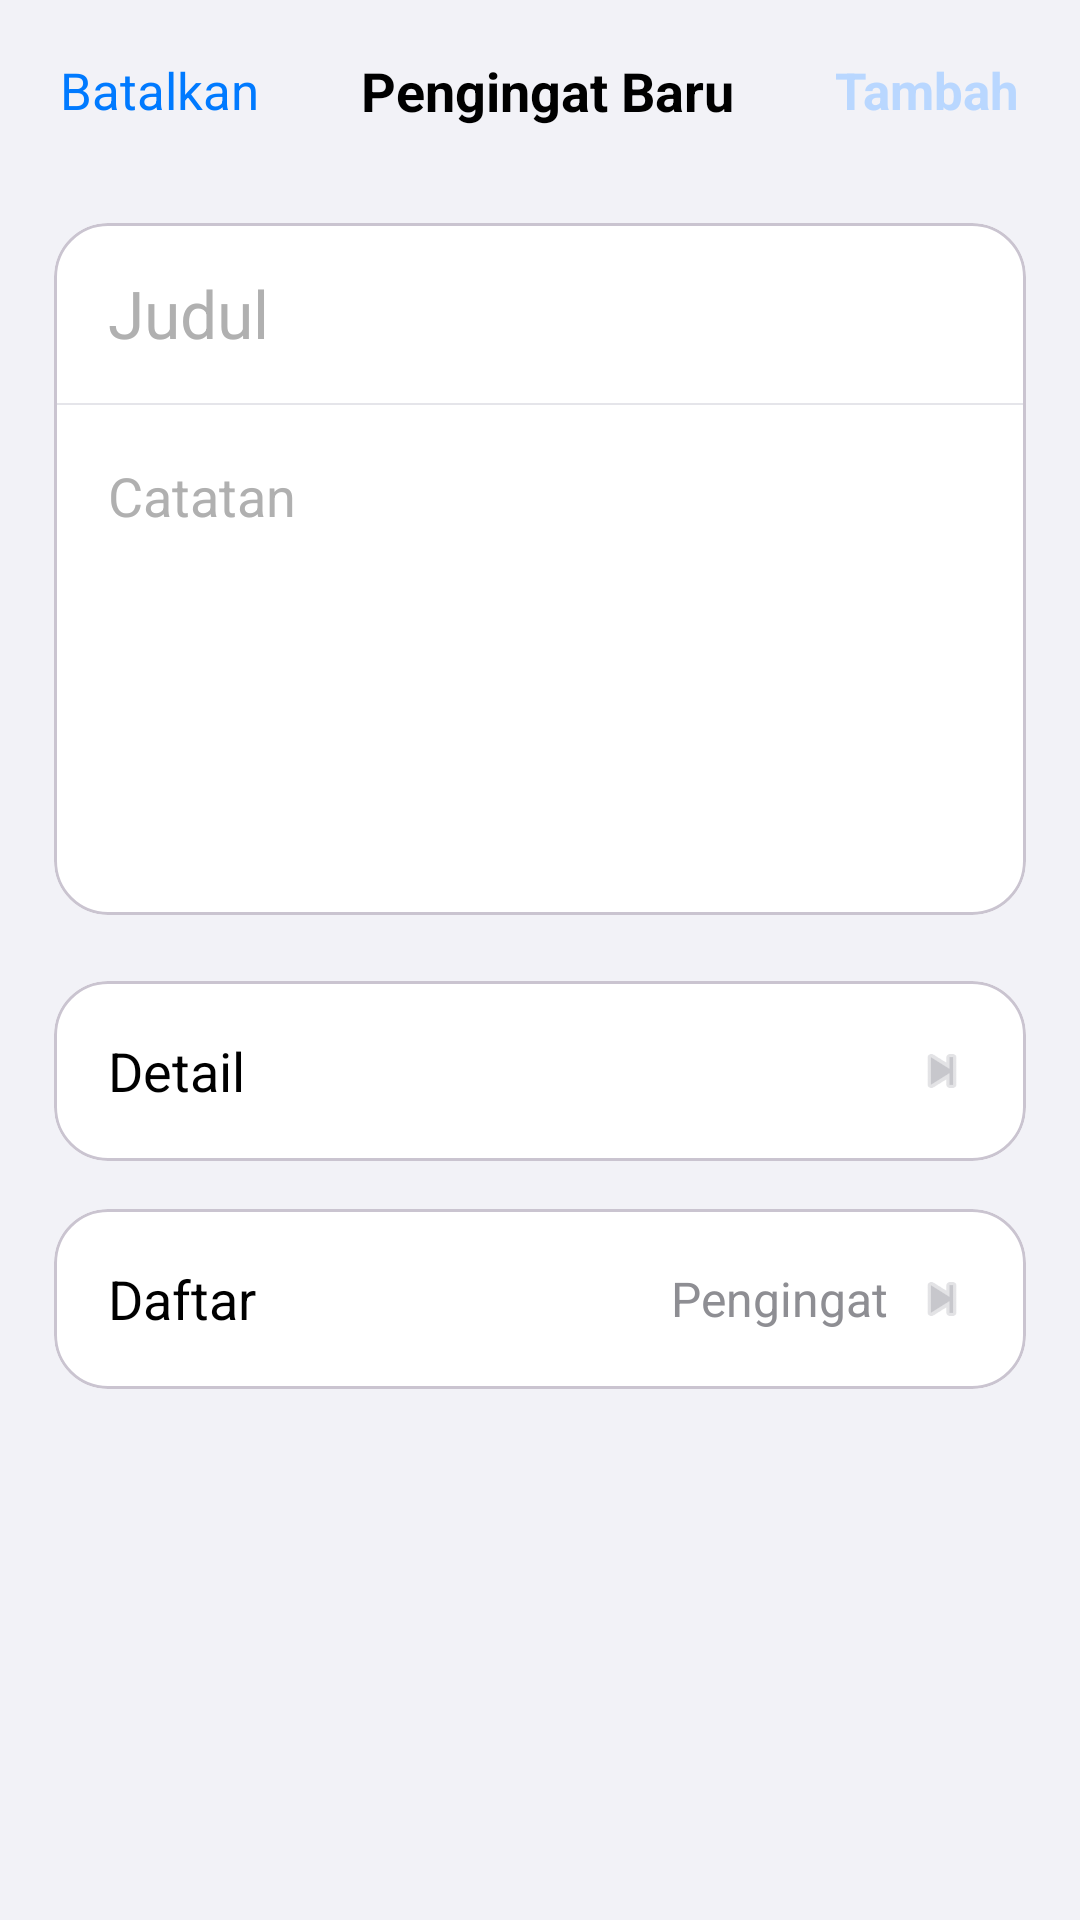

Screen size 1080 × 1920. Icon name, then its box in pixels as (x1, y1, x2, y2):
next: (928, 1054, 956, 1088), (928, 1282, 956, 1316)
